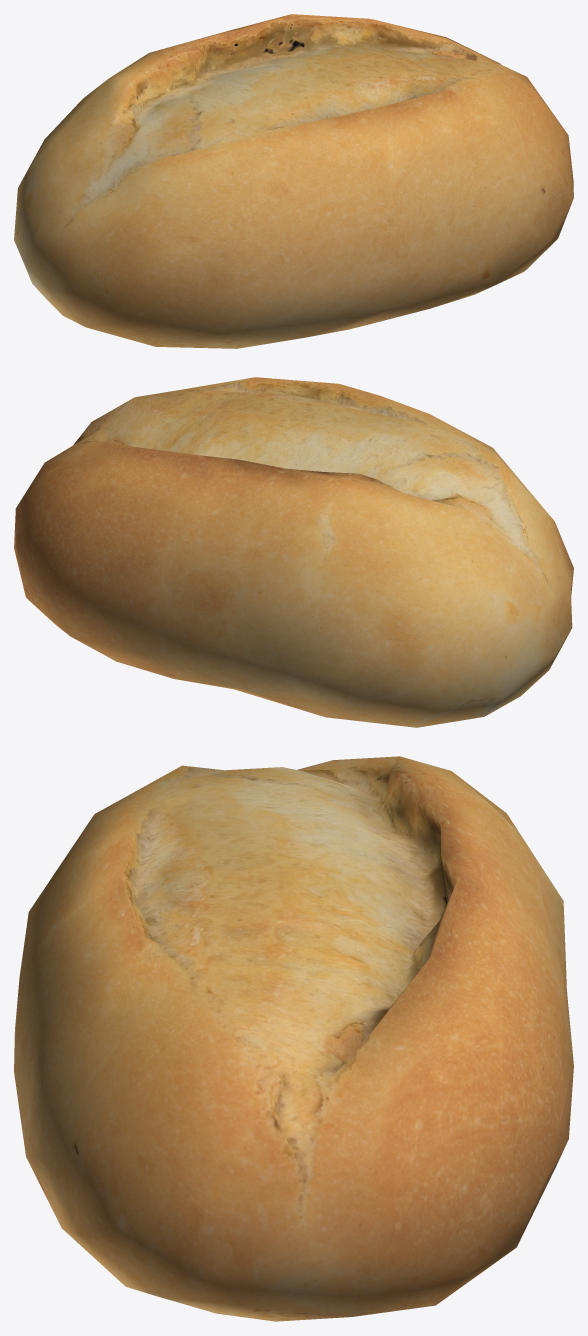
The model's file is 3DBread007_LQ-1K-JPG.obj.
The picture shows the model from 3 angles, top to bottom: view 1: azimuth 30°, elevation 25°; view 2: azimuth 150°, elevation 25°; view 3: azimuth 270°, elevation 25°; orthographic projection. The views are drawn at different scales.
Parts seen in each view (by area): view 1: 3DBread007_LQ-1K-JPG; view 2: 3DBread007_LQ-1K-JPG; view 3: 3DBread007_LQ-1K-JPG.
Boxes of the visible parts, bbox=[...] form: 3DBread007_LQ-1K-JPG: bbox=[14, 14, 573, 348]; 3DBread007_LQ-1K-JPG: bbox=[14, 377, 573, 727]; 3DBread007_LQ-1K-JPG: bbox=[14, 756, 573, 1321].
Bounding box in the file's own units: 0.1291 × 0.0528 × 0.0813.
1 material, 1 textured.
